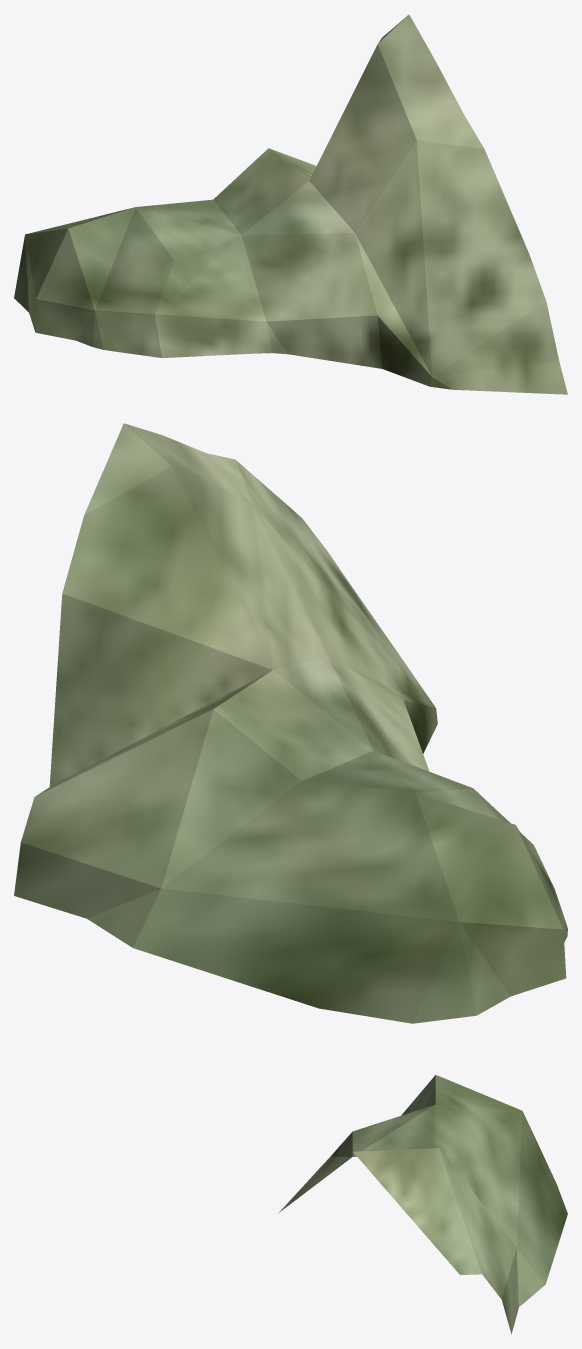
The picture shows the model from 3 angles, top to bottom: view 1: azimuth 30°, elevation 25°; view 2: azimuth 150°, elevation 25°; view 3: azimuth 270°, elevation 25°; orthographic projection. The views are drawn at different scales.
Size of the model in its own units: 0.7723 by 0.5804 by 1.03.
Materials: 1 (1 with a texture image).
